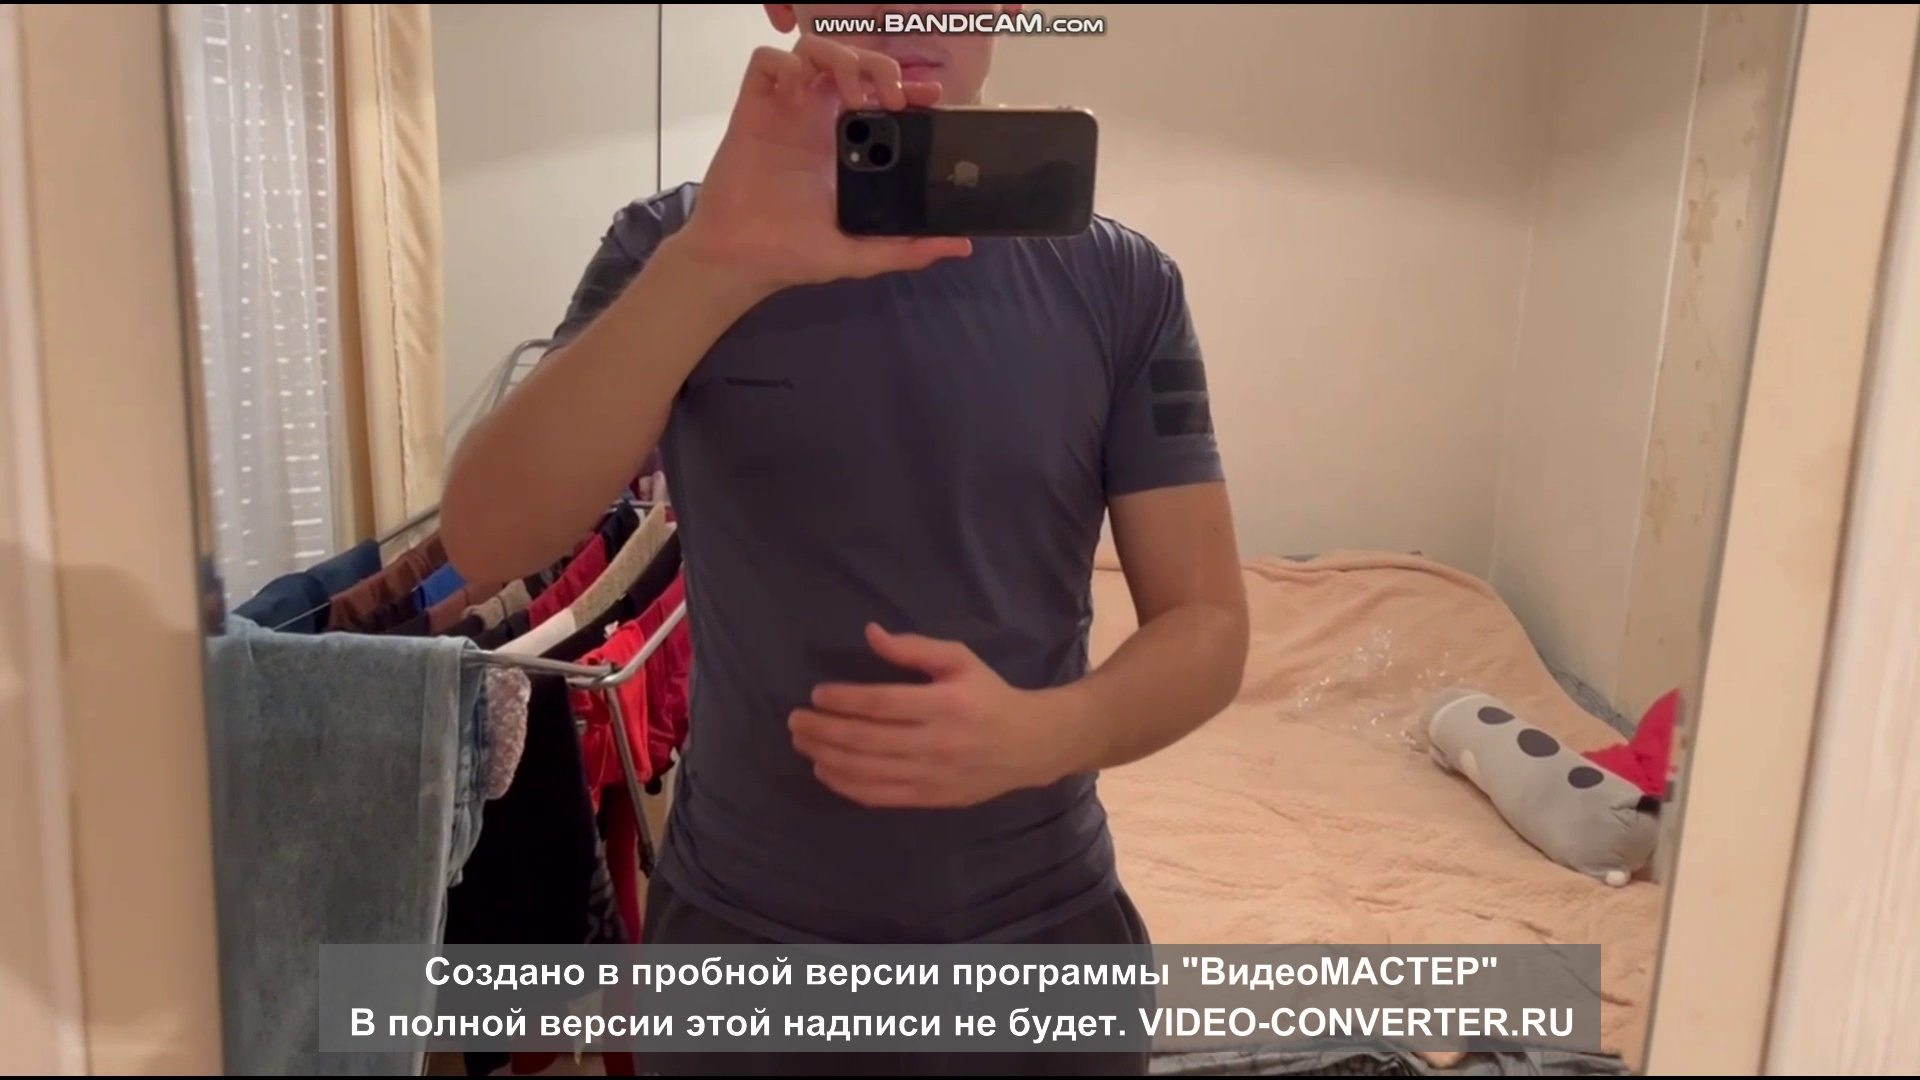Кисть: (783, 625, 1026, 811)
